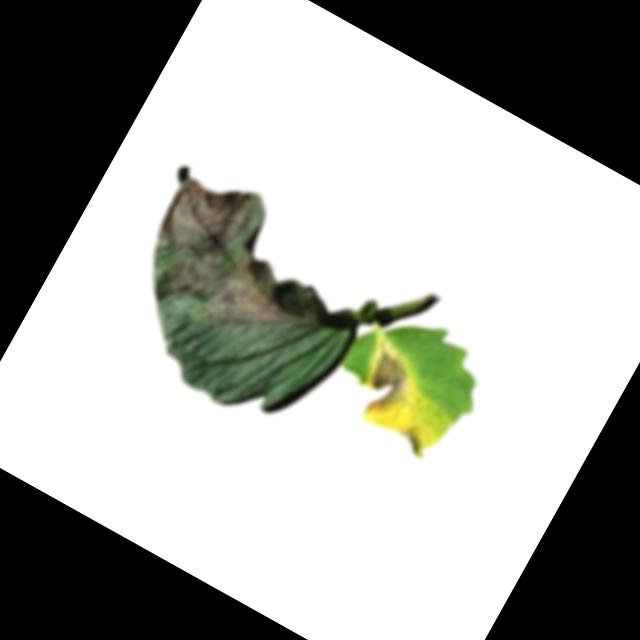Late_blight: (118, 152, 355, 368), (347, 342, 422, 426), (390, 423, 428, 459)
